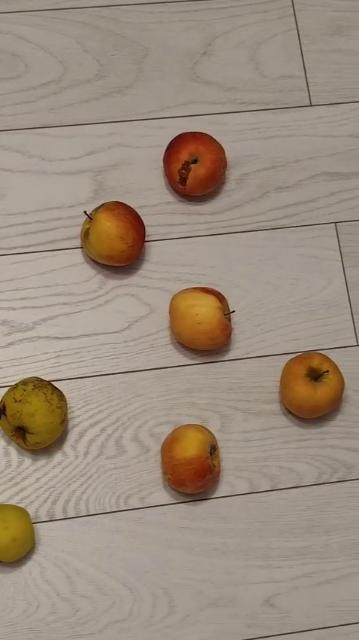apple_green: (1, 377, 68, 449), (0, 502, 36, 563)
apple_red: (279, 352, 345, 418), (159, 423, 220, 494), (163, 132, 228, 198), (168, 286, 233, 350), (81, 200, 145, 265)
